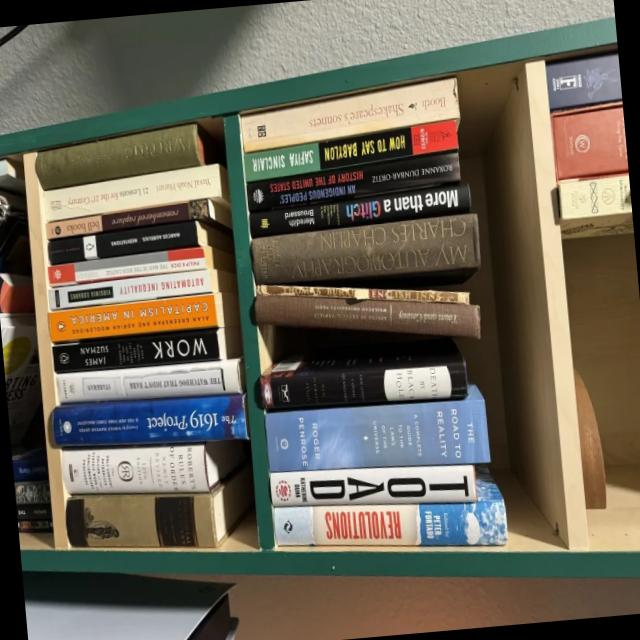book: (262, 383, 489, 486), (62, 465, 255, 559), (273, 471, 506, 546), (237, 77, 461, 153), (248, 213, 480, 285), (258, 338, 467, 410), (244, 148, 461, 214), (241, 120, 459, 181), (247, 181, 471, 238), (32, 121, 206, 192), (252, 291, 481, 339), (42, 163, 228, 222), (50, 393, 247, 447), (60, 439, 244, 494), (56, 357, 245, 408), (47, 291, 238, 340), (268, 463, 476, 507), (51, 326, 240, 373), (45, 218, 231, 265), (47, 265, 236, 310), (43, 196, 230, 240), (47, 244, 233, 284), (256, 283, 468, 304)
